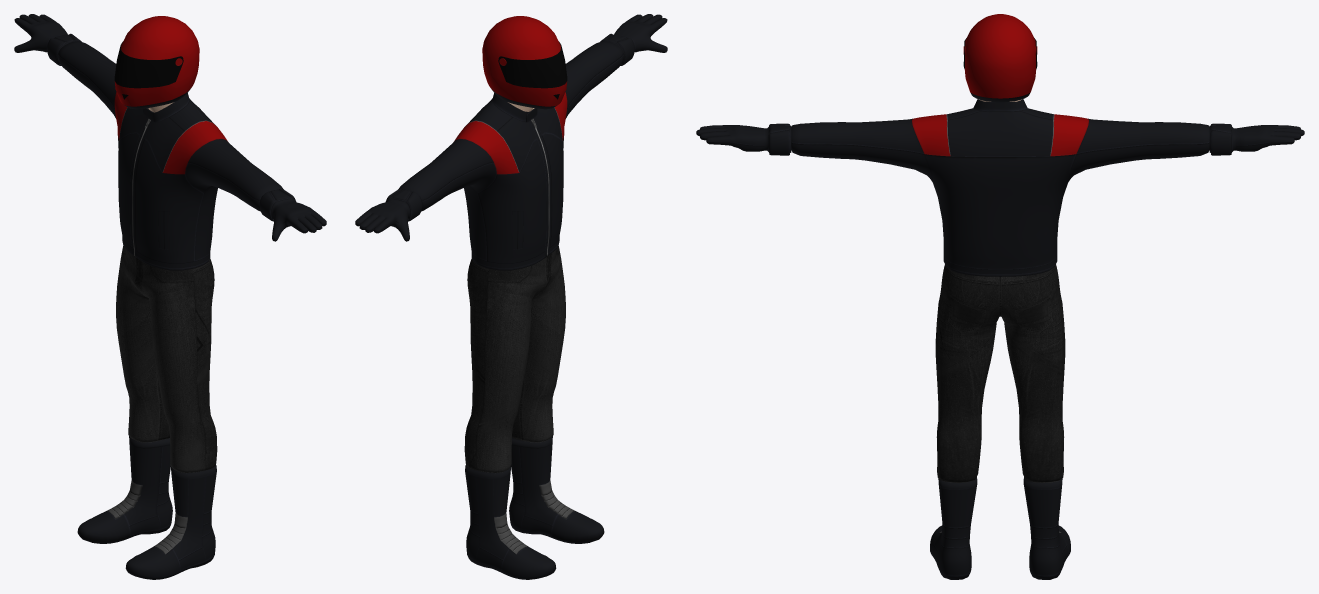
The model's file is mark.FBX.
3 renders of one model, left to right at view 1: azimuth 30°, elevation 25°; view 2: azimuth 150°, elevation 25°; view 3: azimuth 270°, elevation 25°, orthographic. The views are drawn at different scales.
Parts seen in each view (by area): view 1: Cube_006; view 2: Cube_006; view 3: Cube_006.
Boxes of the visible parts, x1,y1,x2,y2 form: Cube_006: (14,14,326,579); Cube_006: (355,14,667,579); Cube_006: (696,14,1304,579).
Size of the model in its own units: 0.8805 by 4.51 by 4.53.
1 material, 1 textured.
